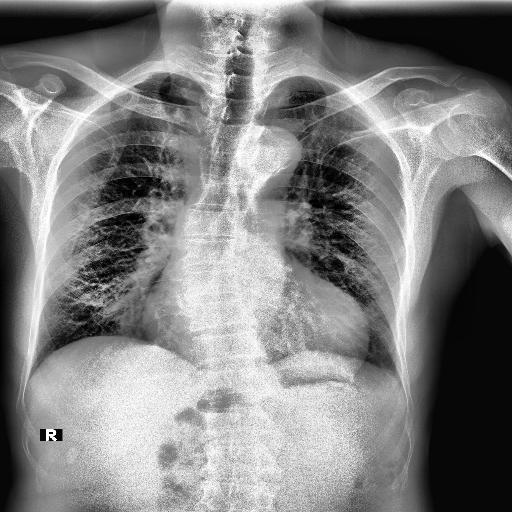0- Aortic enlargement: (236, 122, 304, 178), (236, 123, 304, 172), (244, 124, 302, 180)
3- Cardiomegaly: (136, 282, 368, 364), (142, 294, 370, 374), (138, 304, 372, 368)
8- Nodule-Mass: (78, 204, 90, 216)
